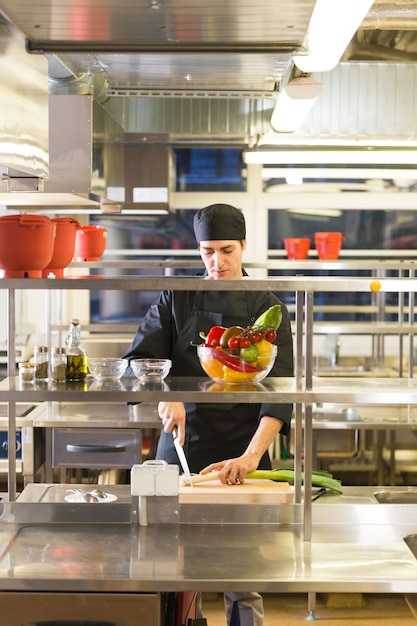knife: (171, 435, 196, 488)
